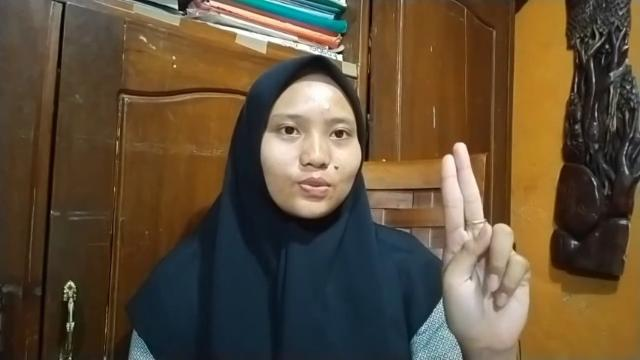U: (433, 137, 536, 360)
